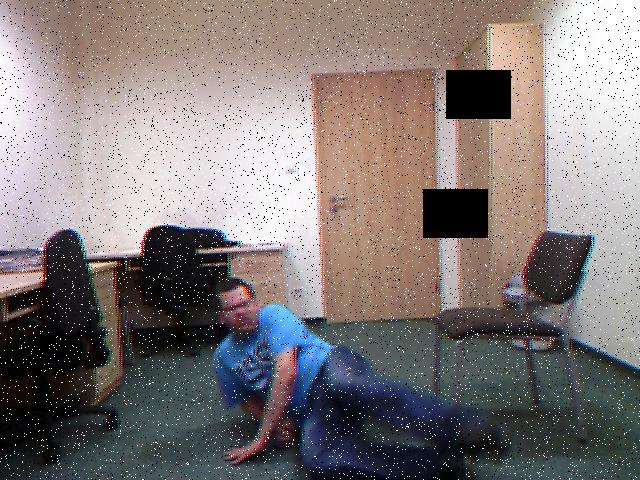fall: (201, 274, 517, 480)
